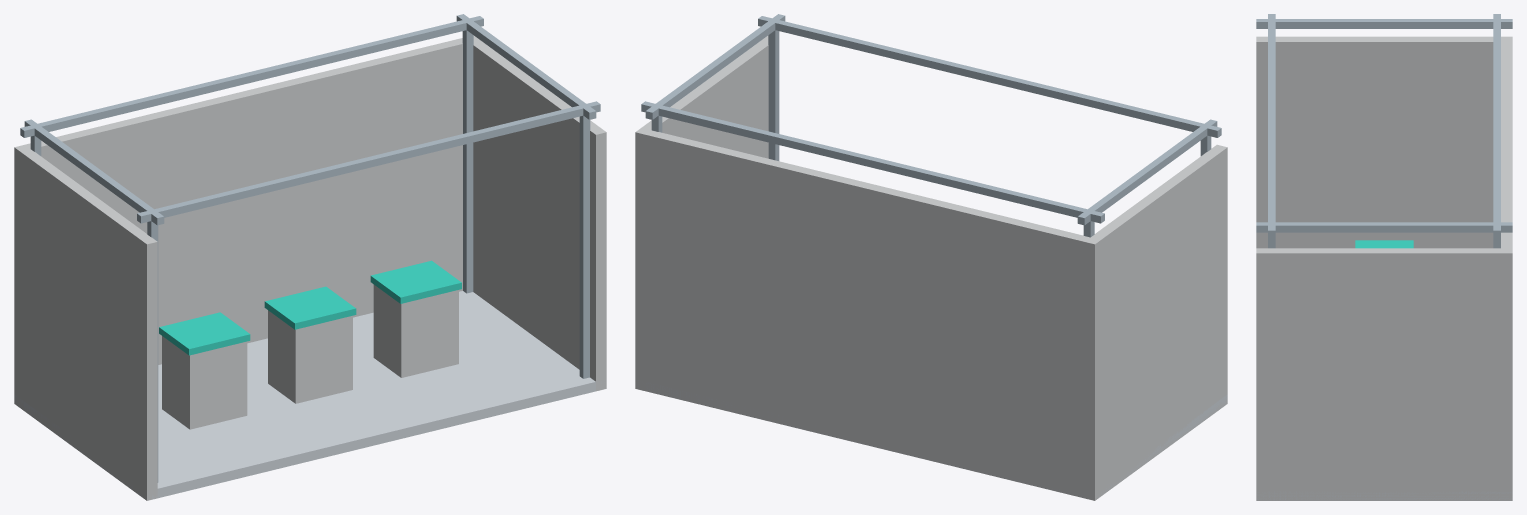
3 renders of one model, left to right at view 1: azimuth 30°, elevation 25°; view 2: azimuth 150°, elevation 25°; view 3: azimuth 270°, elevation 25°, orthographic. The views are drawn at different scales.
Visible parts, largest first — view 1: Exhibition Booth Concept; view 2: Exhibition Booth Concept; view 3: Exhibition Booth Concept.
Part boxes in pixels (x1=…): Exhibition Booth Concept: x1=14, y1=14, x2=606, y2=500; Exhibition Booth Concept: x1=635, y1=14, x2=1227, y2=500; Exhibition Booth Concept: x1=1256, y1=14, x2=1512, y2=500.
Size of the model in its own units: 6 by 3.49 by 3.
